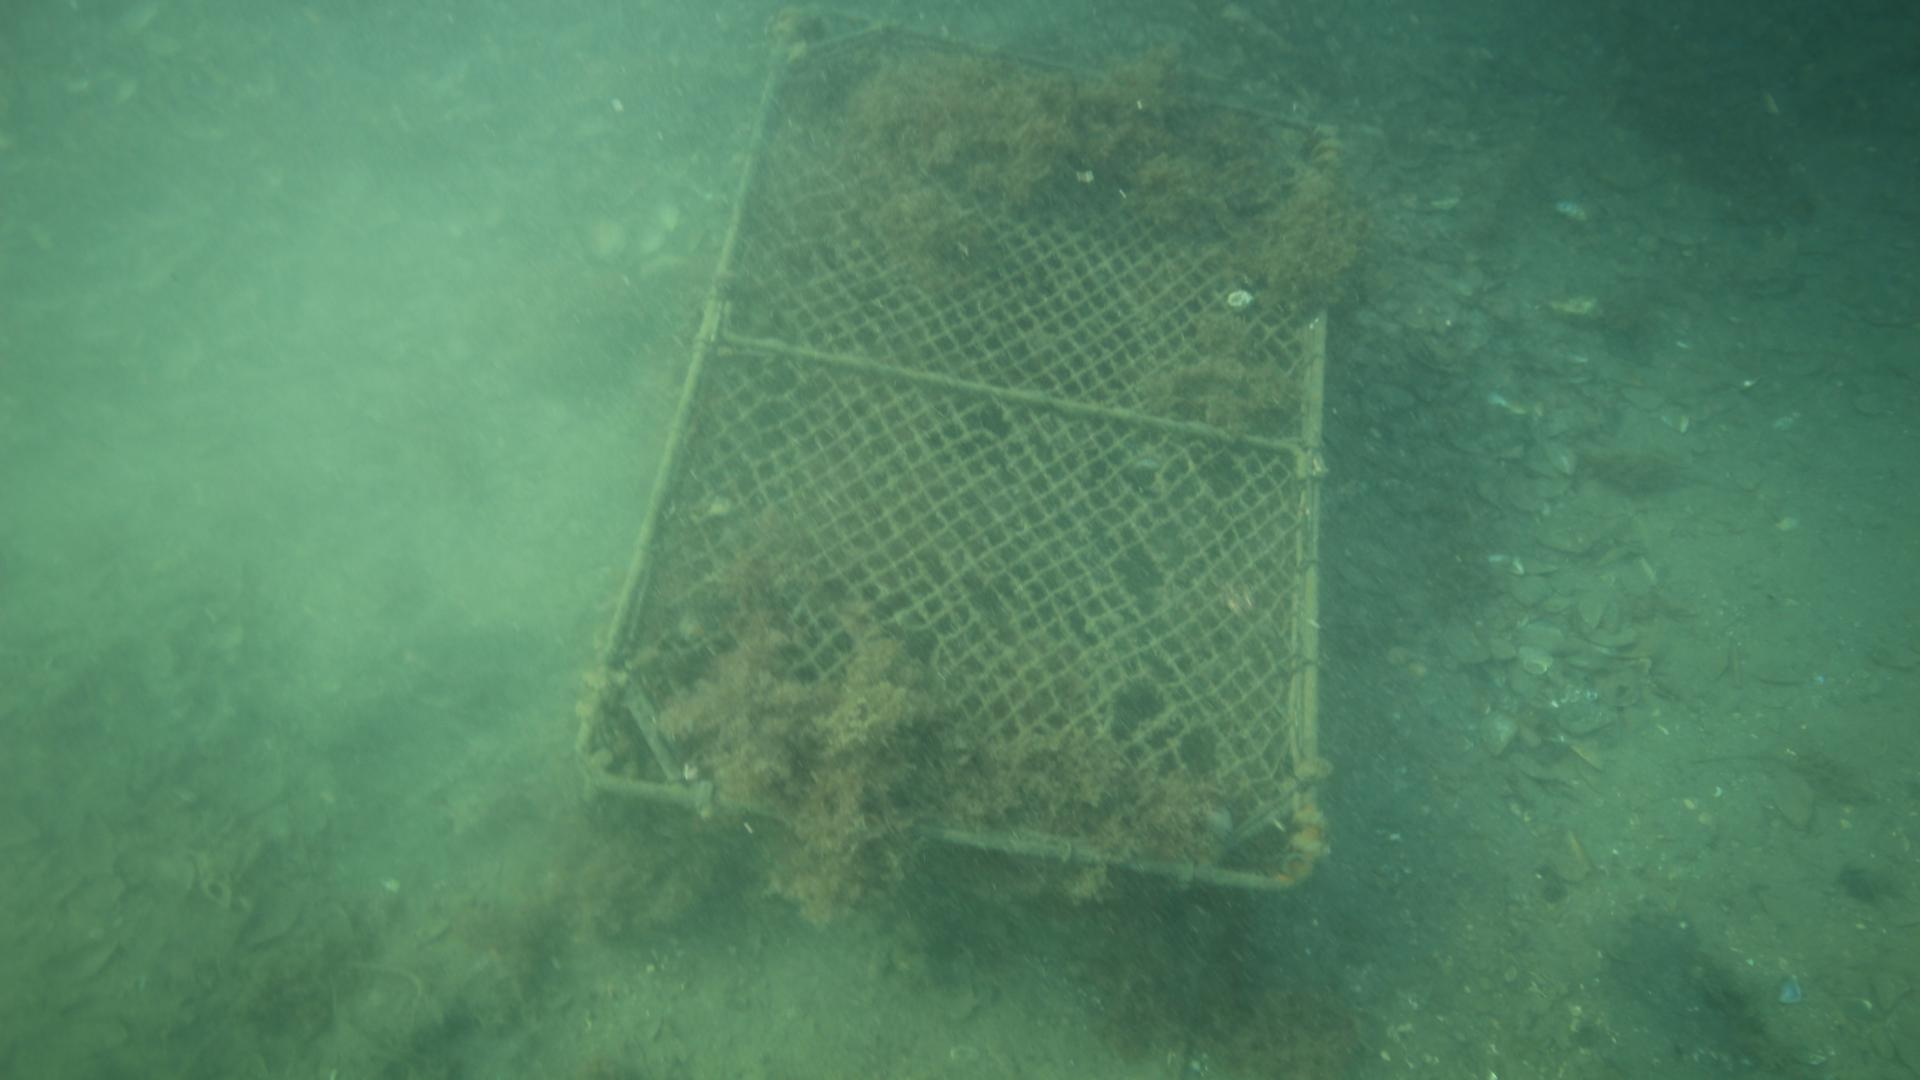rectangular fish trap: (576, 0, 1328, 890)
